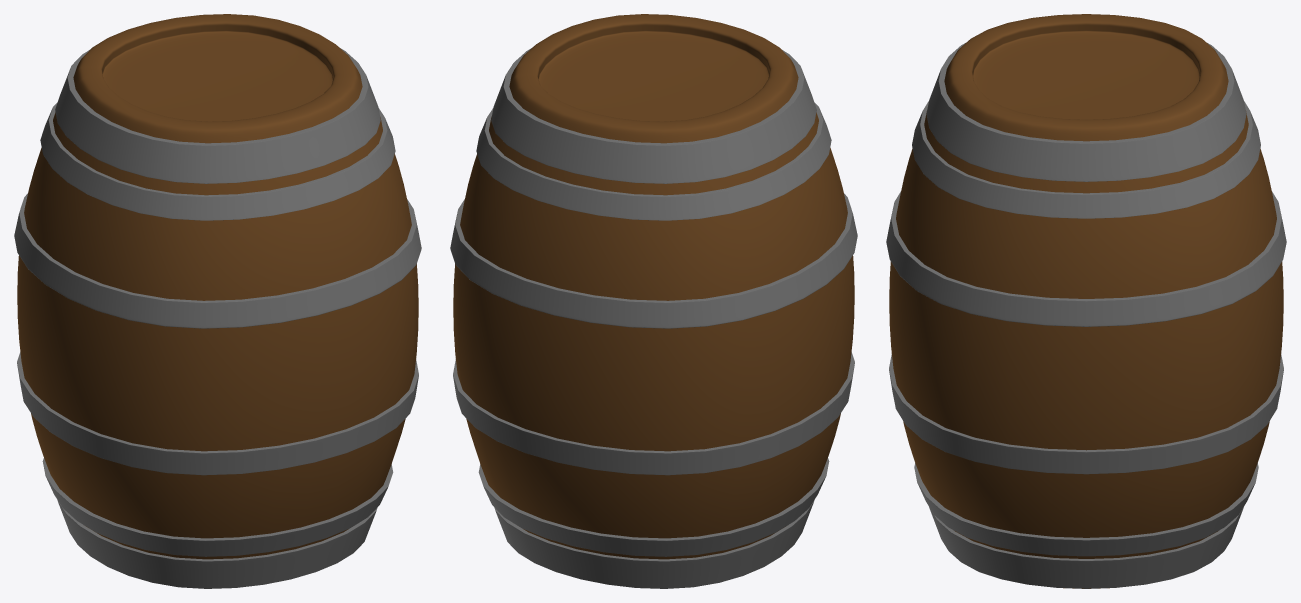
Rendered from Barrel.fbx.
3 renders of one model, left to right at view 1: azimuth 30°, elevation 25°; view 2: azimuth 150°, elevation 25°; view 3: azimuth 270°, elevation 25°, orthographic.
Parts seen in each view (by area): view 1: polySurface13; view 2: polySurface13; view 3: polySurface13.
Boxes of the visible parts, bbox=[...] form: polySurface13: bbox=[14, 14, 421, 588]; polySurface13: bbox=[450, 14, 857, 588]; polySurface13: bbox=[886, 14, 1286, 588].
Bounding box in the file's own units: 139 × 178 × 139.
